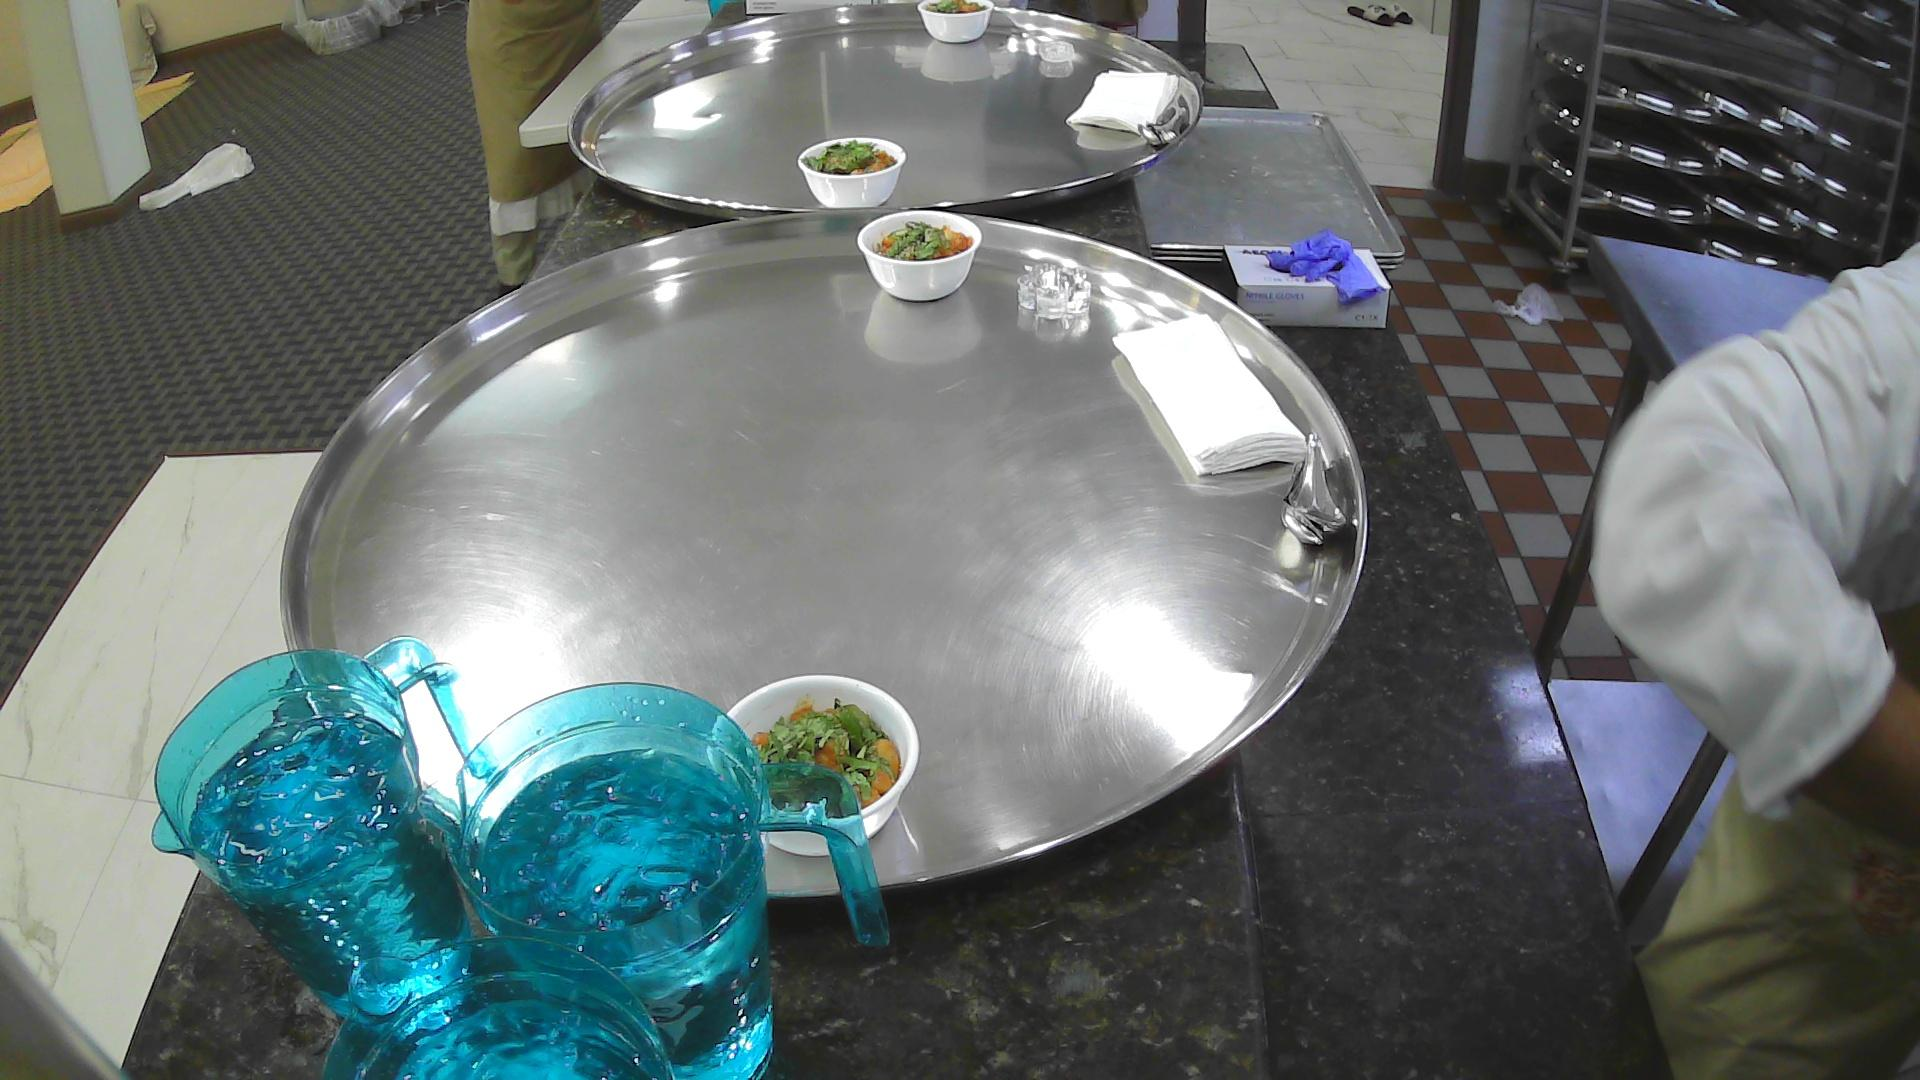thaal: (274, 206, 1375, 915), (568, 0, 1209, 220)
